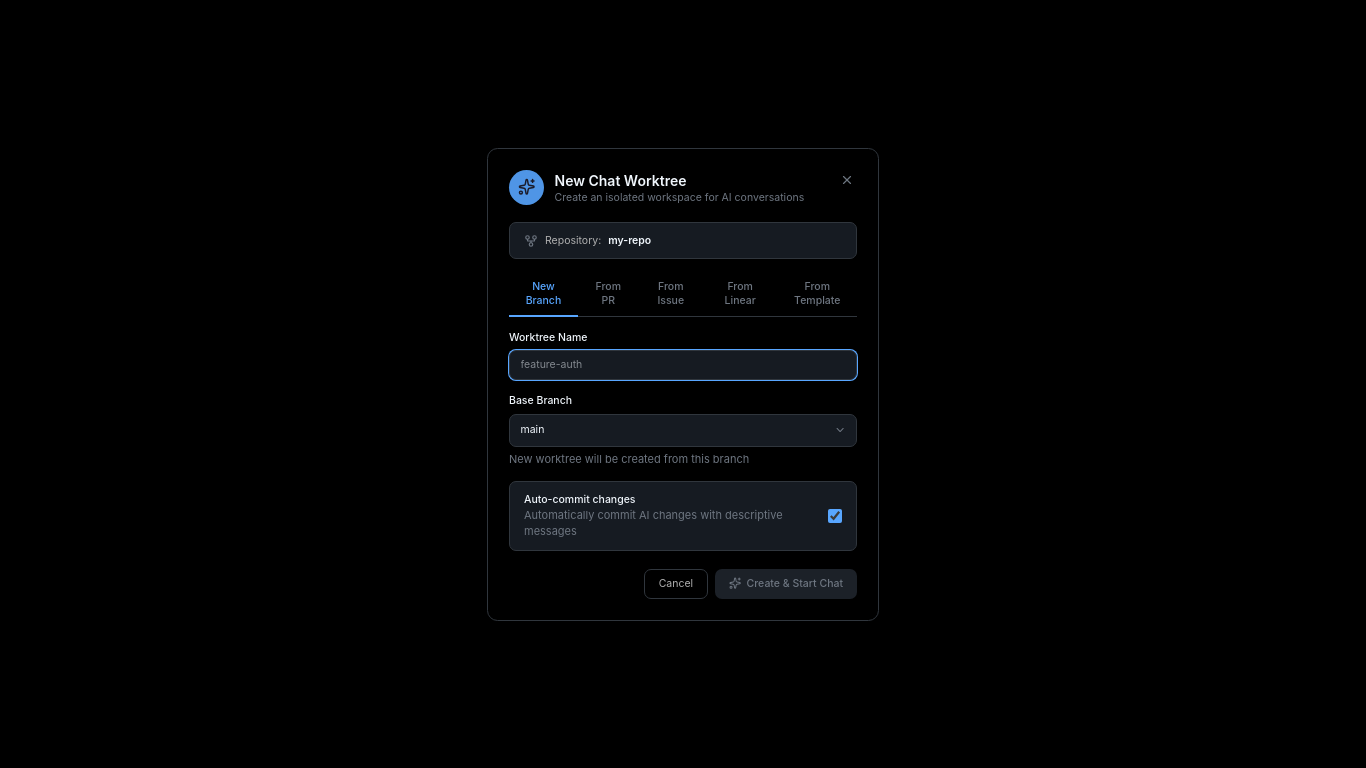
PR mode › shows loading state
Expected: the dropdown is enabled, [509,414,857,447]
Click the button "From PR": (608, 295) [581,273,635,317]
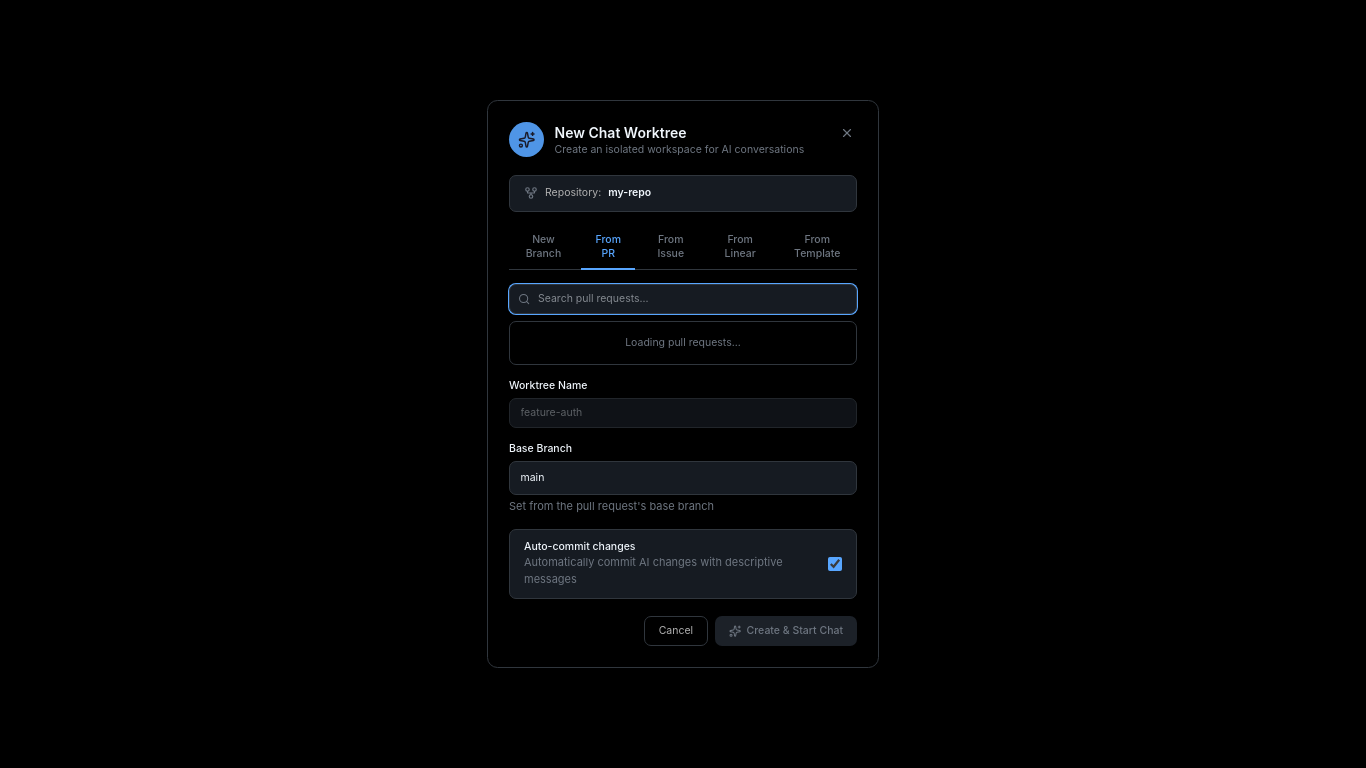
Expected: the text "Loading pull requests..." is shown, [625,336,741,348]
